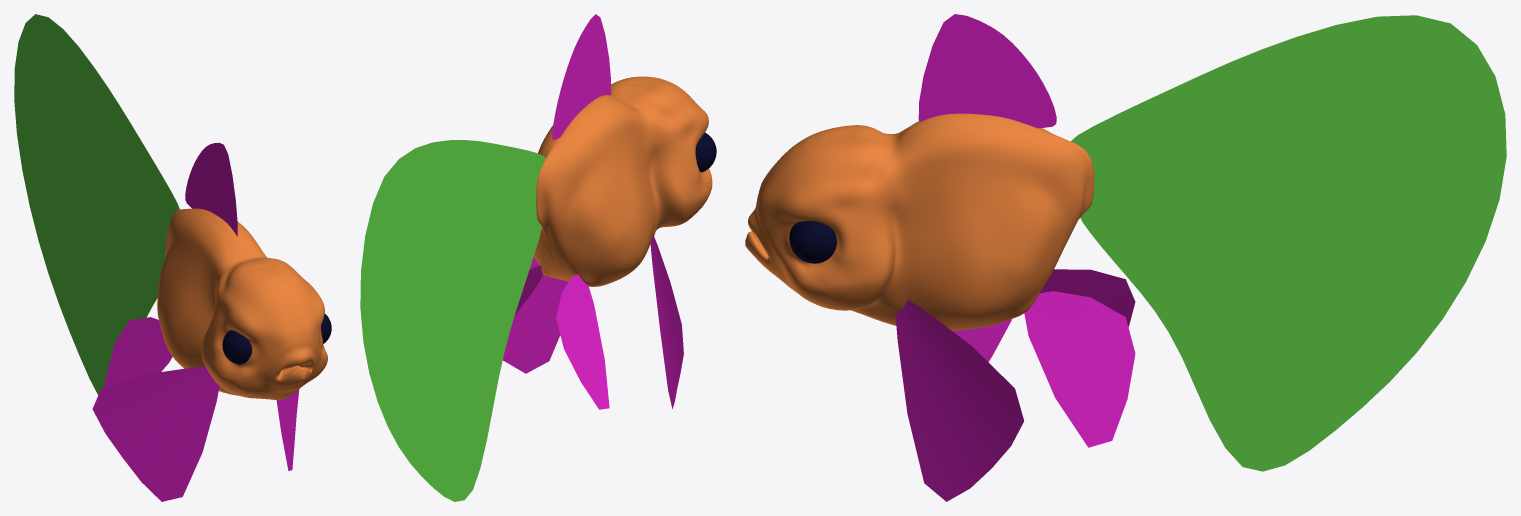
File: fish for texturing2.fbx
3 renders of one model, left to right at view 1: azimuth 30°, elevation 25°; view 2: azimuth 150°, elevation 25°; view 3: azimuth 270°, elevation 25°, orthographic. The views are drawn at different scales.
Visible parts, largest first — view 1: tail, body, back fin R, Eye R; view 2: tail, body, back fin R, Eye R; view 3: tail, body, back fin R, Eye L.
Part boxes in pixels (<box>): tail: <box>14,14,179,394</box>; body: <box>157,208,327,399</box>; back fin R: <box>92,142,299,501</box>; Eye R: <box>222,330,251,364</box>; tail: <box>360,140,545,501</box>; body: <box>534,76,712,286</box>; back fin R: <box>503,14,683,409</box>; Eye R: <box>695,132,716,172</box>; tail: <box>1071,15,1506,471</box>; body: <box>745,113,1094,330</box>; back fin R: <box>895,14,1135,501</box>; Eye L: <box>789,221,836,263</box>.
Bounding box in the file's own units: 9.19 × 14.53 × 21.91.
